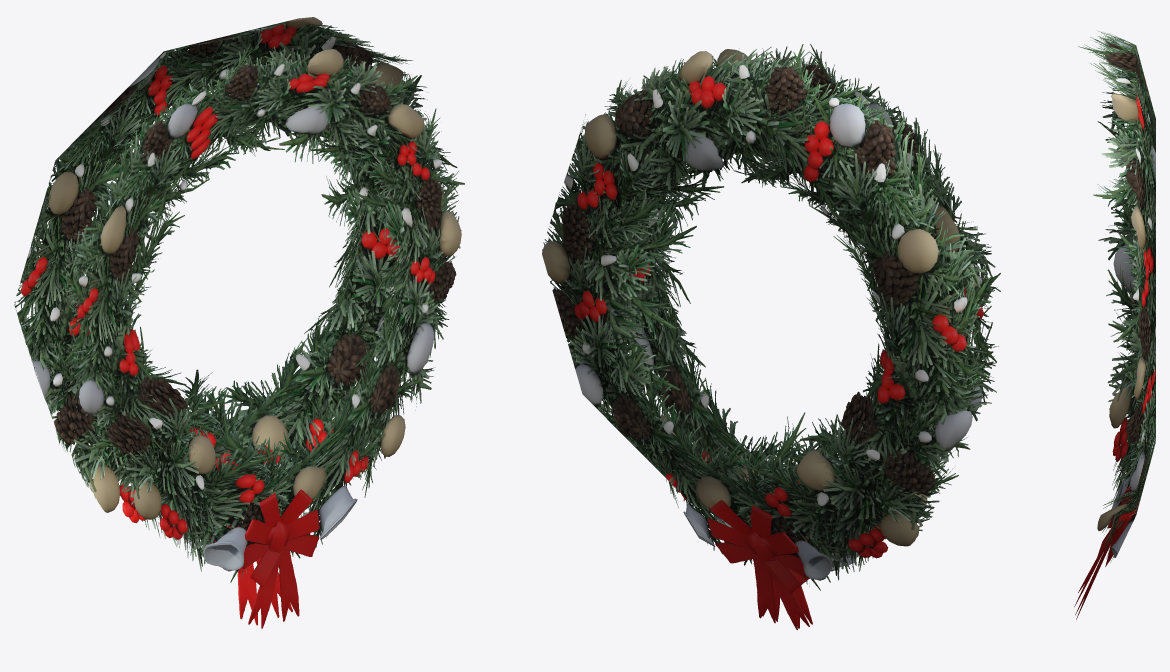
File: christmas_wreath.fbx
3 views of the same model, side by side, from view 1: azimuth 30°, elevation 25°; view 2: azimuth 150°, elevation 25°; view 3: azimuth 270°, elevation 25° (orthographic). The views are drawn at different scales.
Visible parts, largest first — view 1: christmas_wreath; view 2: christmas_wreath; view 3: christmas_wreath.
Part boxes in pixels (left/top/right/bottom): christmas_wreath: left=14, top=17, right=464, bottom=628; christmas_wreath: left=542, top=44, right=1000, bottom=629; christmas_wreath: left=1074, top=30, right=1155, bottom=619.
Size of the model in its own units: 42.59 by 50.22 by 6.98.
Materials: 1 (1 with a texture image).
